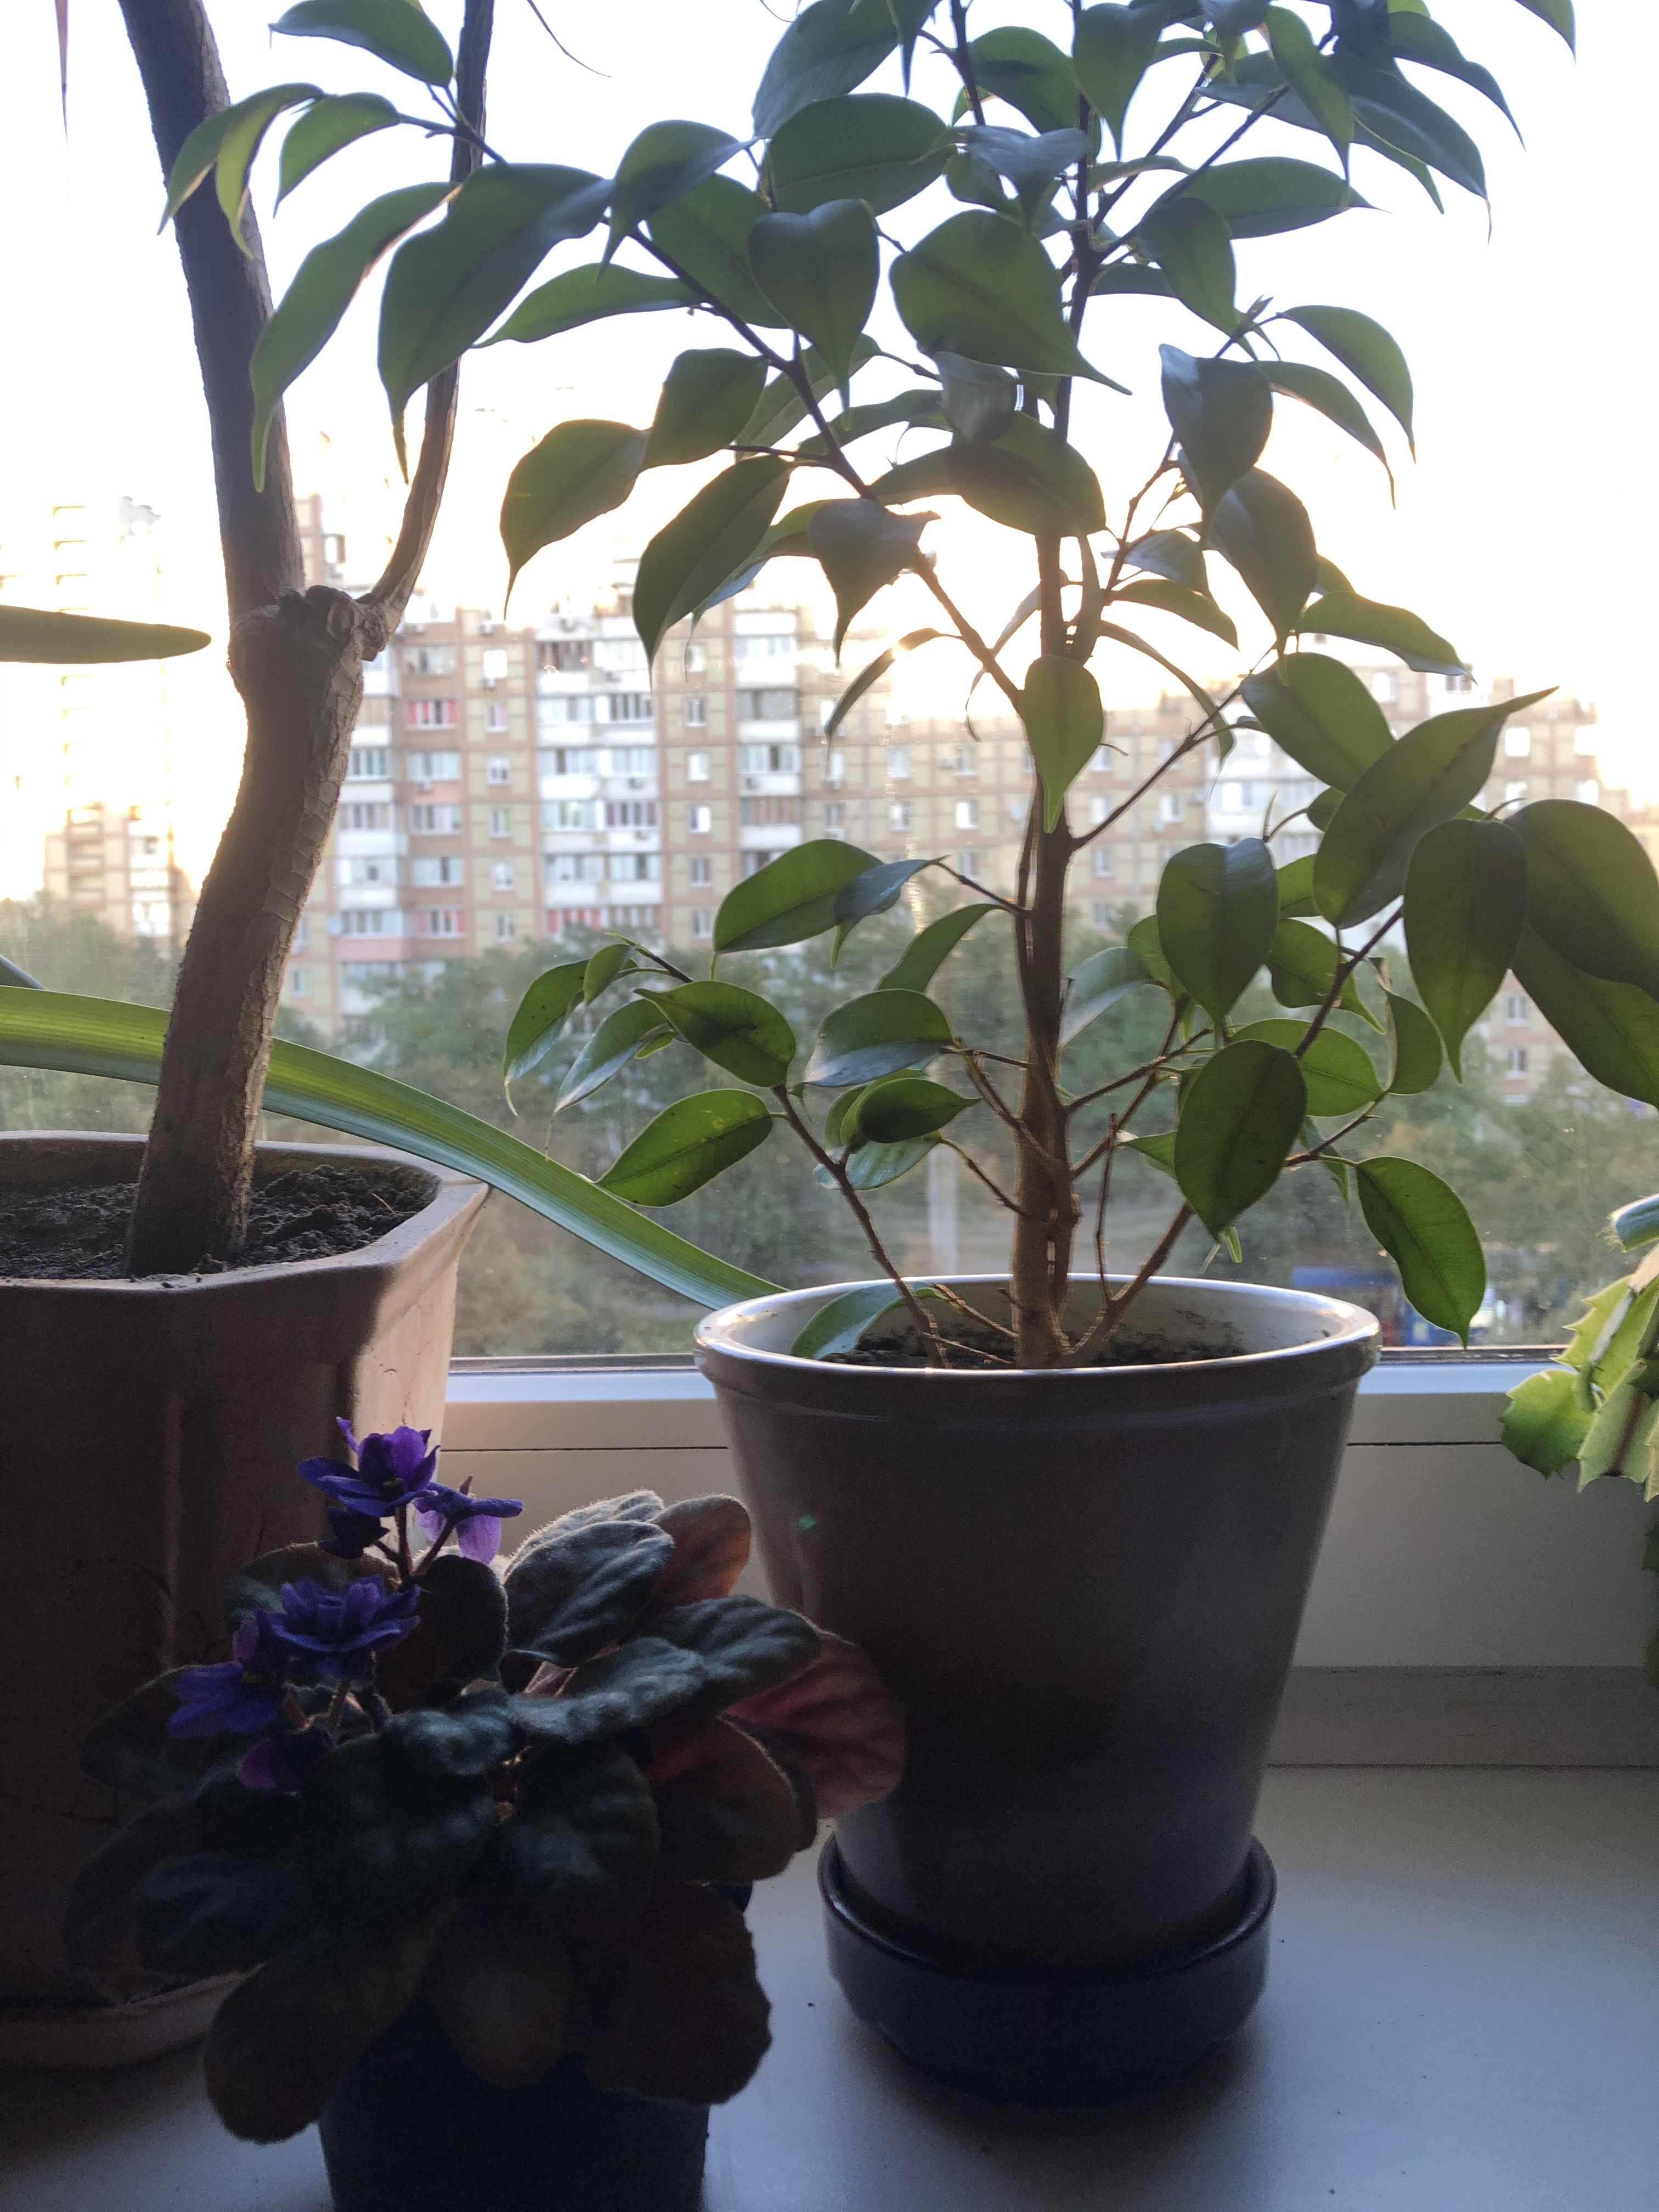ignore: (64, 1388, 925, 2148)
